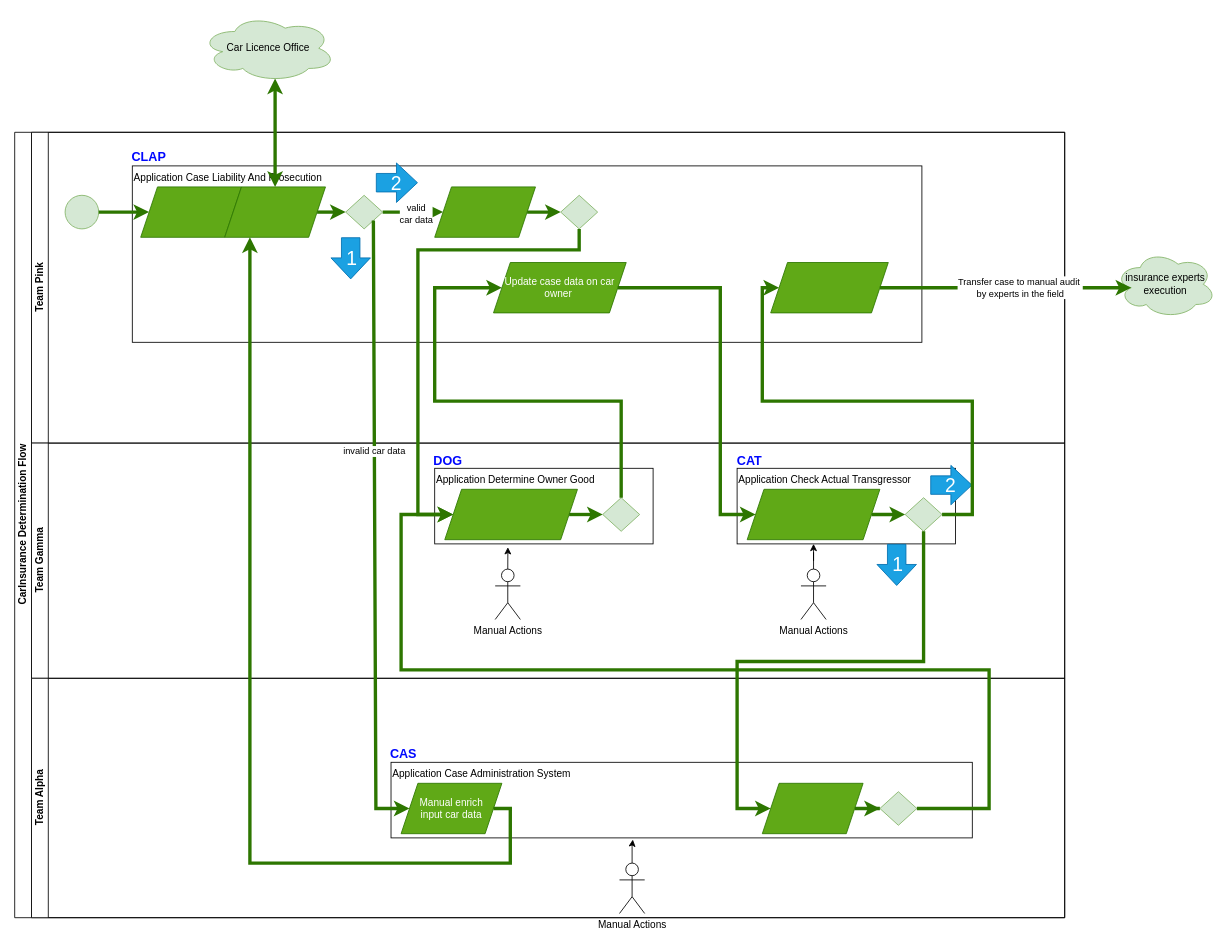
Image size: 1231x946. Some labels were removed from this diagram. Here are the shapes that lost their labels. From the top down, the centre of each, then its label:
At point (81, 211): "New Case".
At point (191, 211): "Validate input".
At point (275, 211): "Retrieve Car data".
At point (485, 211): "determine severity".
At point (829, 287): "prepare data for execution follow up".
At point (511, 514): "Validate the data on car owner vs actual owner".
At point (813, 514): "Validate the data on car driver".
At point (812, 808): "Manual enrich driver data".
